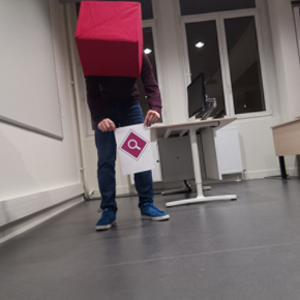search: (121, 129, 148, 161)
